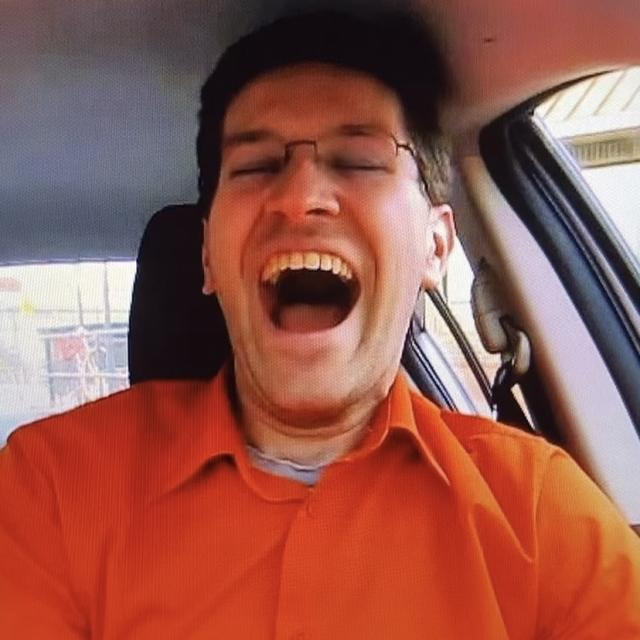open-mouth: (253, 234, 366, 356)
